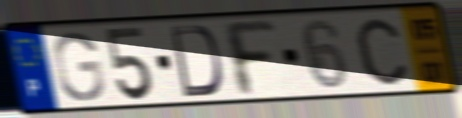5: (102, 24, 154, 103)
6: (300, 17, 351, 93)
C: (353, 15, 410, 88)
D: (167, 24, 225, 100)
F: (218, 19, 280, 99)
G: (50, 30, 107, 104)
